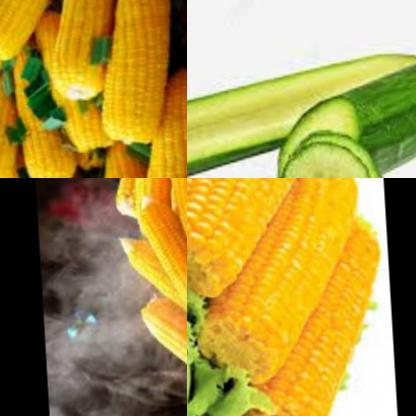corn: (187, 178, 368, 388), (221, 212, 391, 416), (187, 178, 341, 302), (83, 0, 179, 149), (127, 186, 187, 355), (39, 0, 118, 122), (0, 48, 68, 178), (130, 65, 187, 178), (129, 297, 187, 400), (110, 231, 180, 314), (0, 0, 83, 57), (98, 178, 187, 221), (154, 178, 187, 254), (129, 178, 171, 233), (0, 71, 16, 178)
cucumber: (187, 36, 416, 178), (262, 53, 416, 178), (269, 132, 380, 178)
